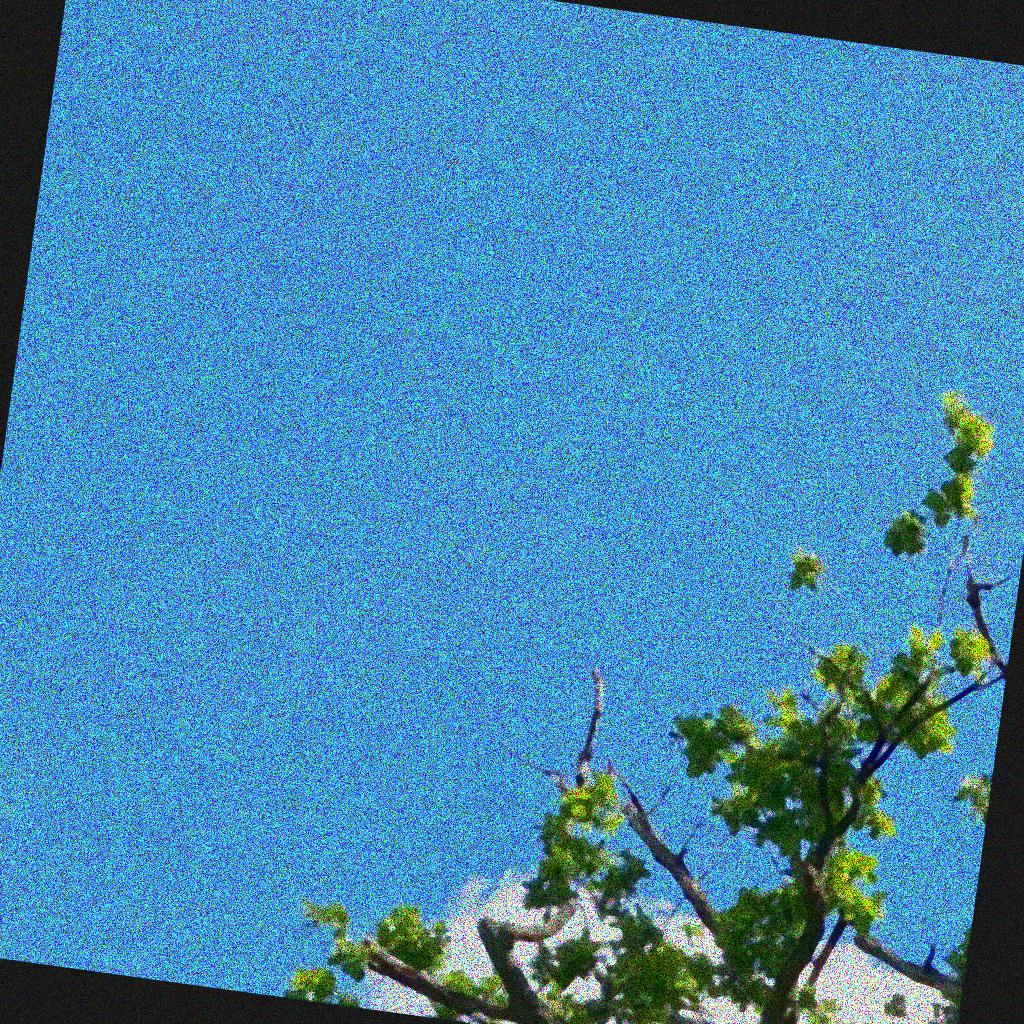tree: (285, 389, 1014, 1023)
